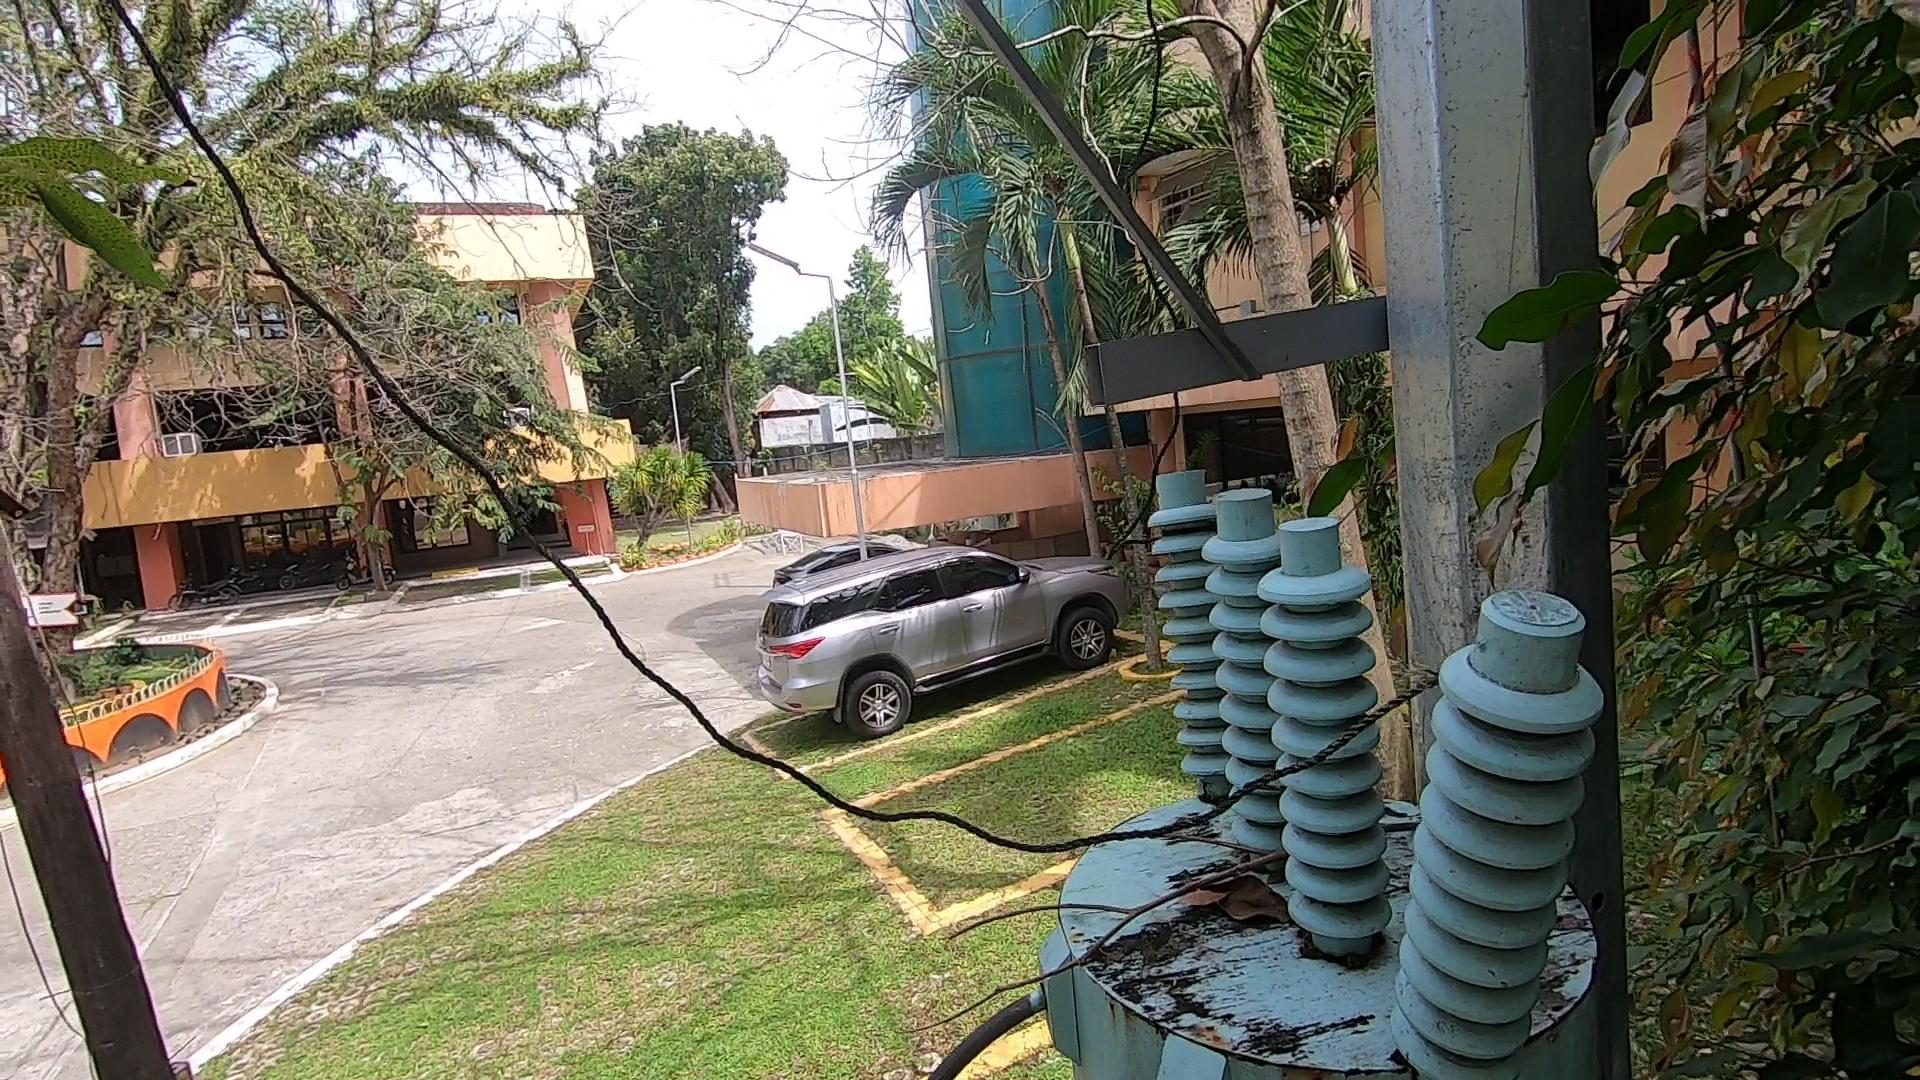leaf: (1183, 868, 1298, 935)
tree branch: (899, 843, 1302, 1065)
